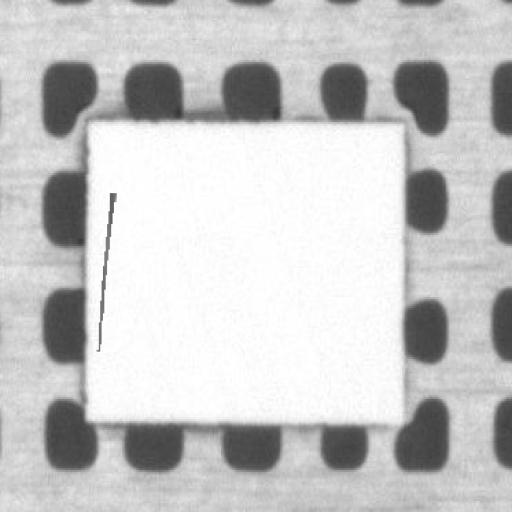DIE_INK: (126, 144, 153, 264)
